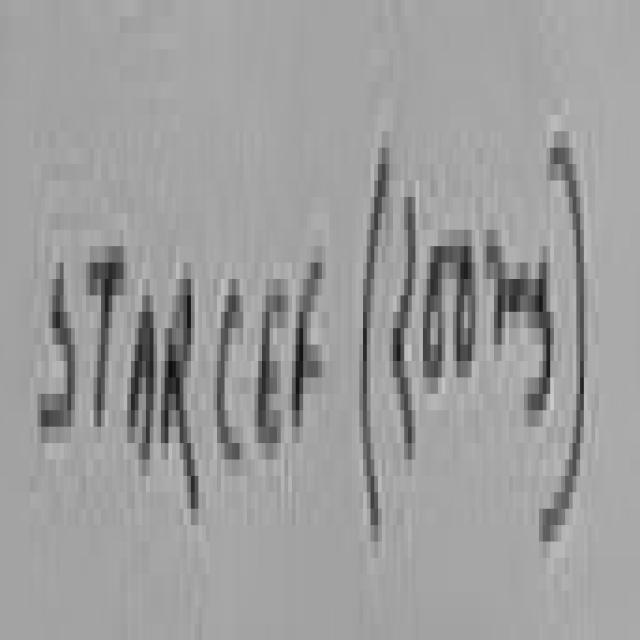0: (454, 158, 480, 478), (423, 169, 452, 443)
2: (382, 184, 423, 488)
A: (124, 266, 157, 525)
C: (212, 262, 252, 523)
E: (256, 206, 292, 513)
F: (291, 191, 331, 483)
R: (157, 232, 204, 518)
S: (31, 202, 87, 518)
T: (82, 210, 124, 466)
g: (528, 221, 554, 441)
m: (482, 210, 530, 369)
